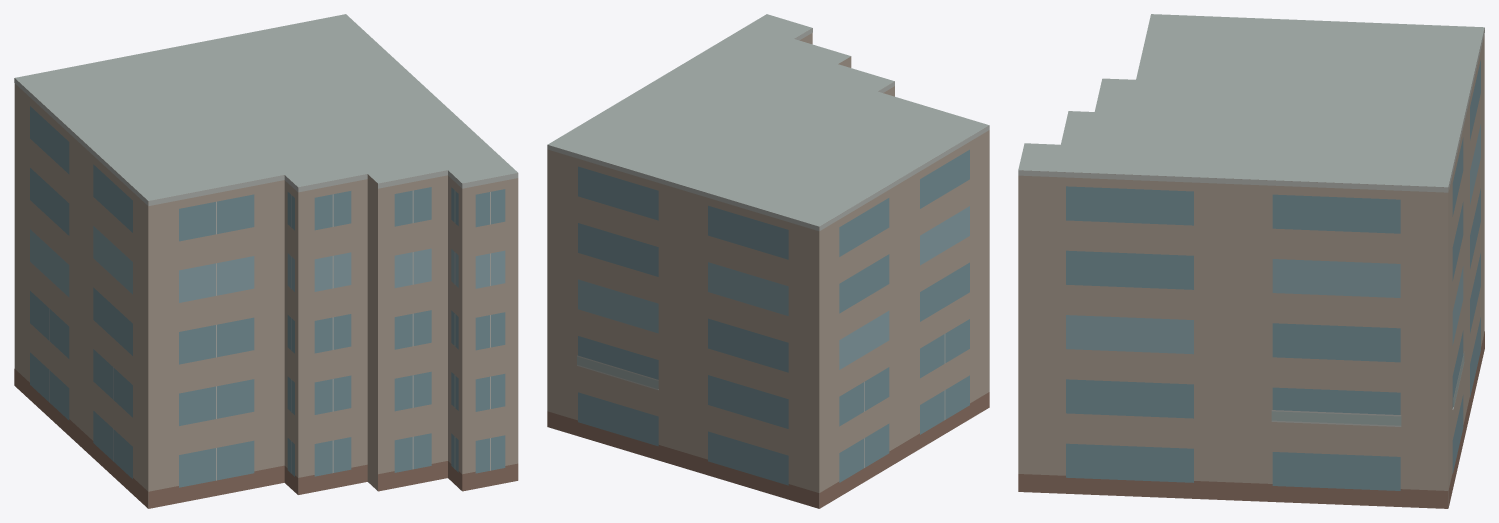
Rendered from survey-upis-33003810.glb.
3 views of the same model, side by side, from view 1: azimuth 30°, elevation 25°; view 2: azimuth 150°, elevation 25°; view 3: azimuth 270°, elevation 25° (orthographic). The views are drawn at different scales.
Visible parts, largest first — view 1: survey-upis-33003810.tmp; view 2: survey-upis-33003810.tmp; view 3: survey-upis-33003810.tmp.
Boxes of the visible parts, x1=… form: survey-upis-33003810.tmp: x1=14, y1=14, x2=518, y2=508; survey-upis-33003810.tmp: x1=547, y1=14, x2=989, y2=508; survey-upis-33003810.tmp: x1=1018, y1=14, x2=1484, y2=508.
Bounding box in the file's own units: 16.94 × 14.65 × 19.27.
